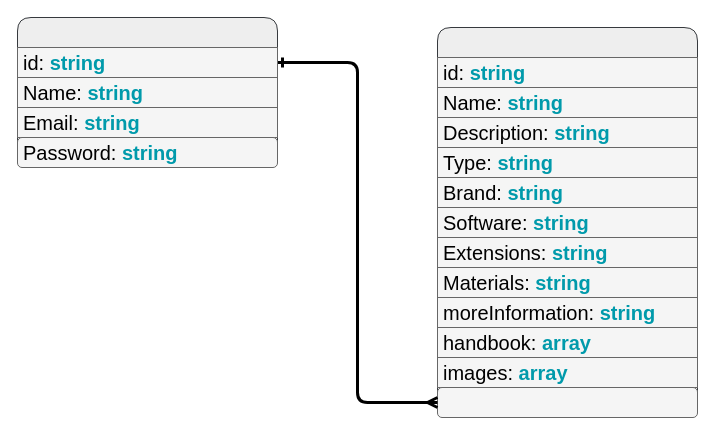
Image size: 715x435. Some labels were removed from this diagram. The box of each missing label's shape, as (x1, y1, x2, y2) in pixels:
Admin: (16, 16, 278, 168)
Equipament: (436, 26, 698, 418)
id_admin: string: (436, 386, 698, 418)
